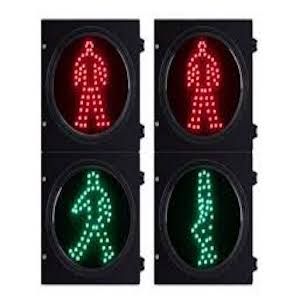green: (63, 166, 125, 263), (176, 166, 227, 260)
red: (169, 38, 241, 130), (69, 40, 118, 141)
